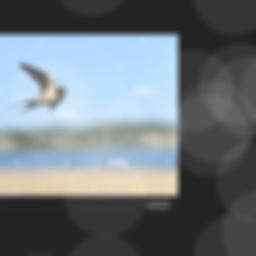Swallow: (7, 63, 66, 115)
